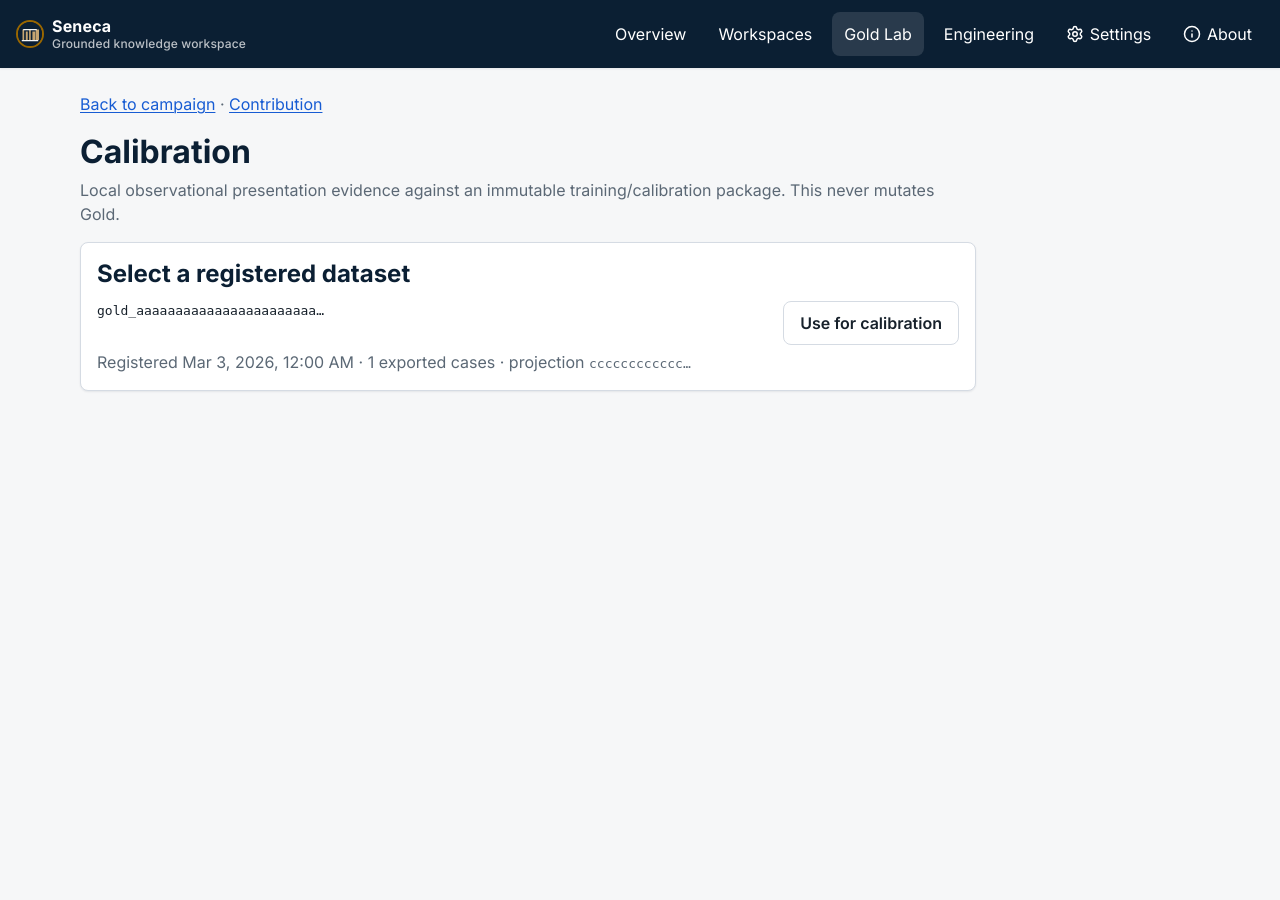
Test: 16G-I4 calibration surface › loads package by dataset_id and never uses dataset_path or tasks
Click the button "Use for calibration".
click(871, 323)  # box [783, 301, 959, 345]
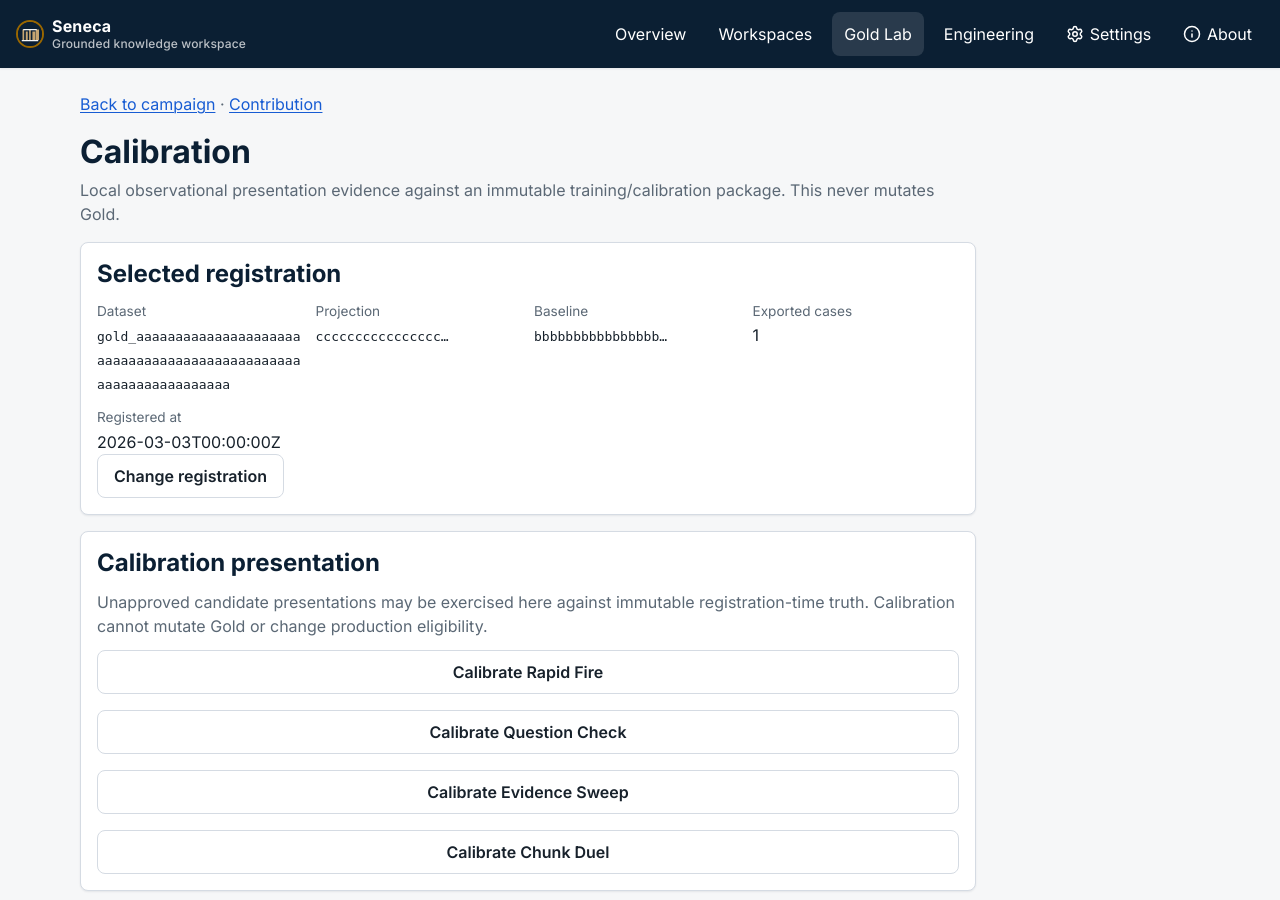
Expected: the element with test id "calibration-workspace" is shown, [80, 242, 976, 891]
